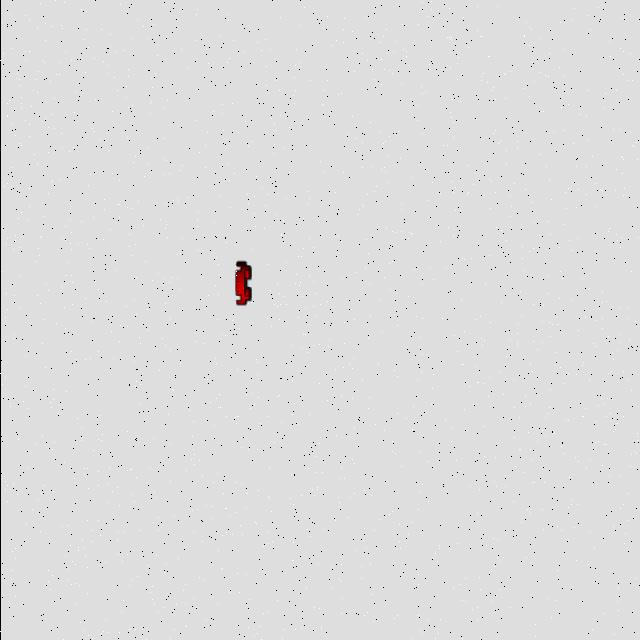4032a: (230, 257, 253, 310)
